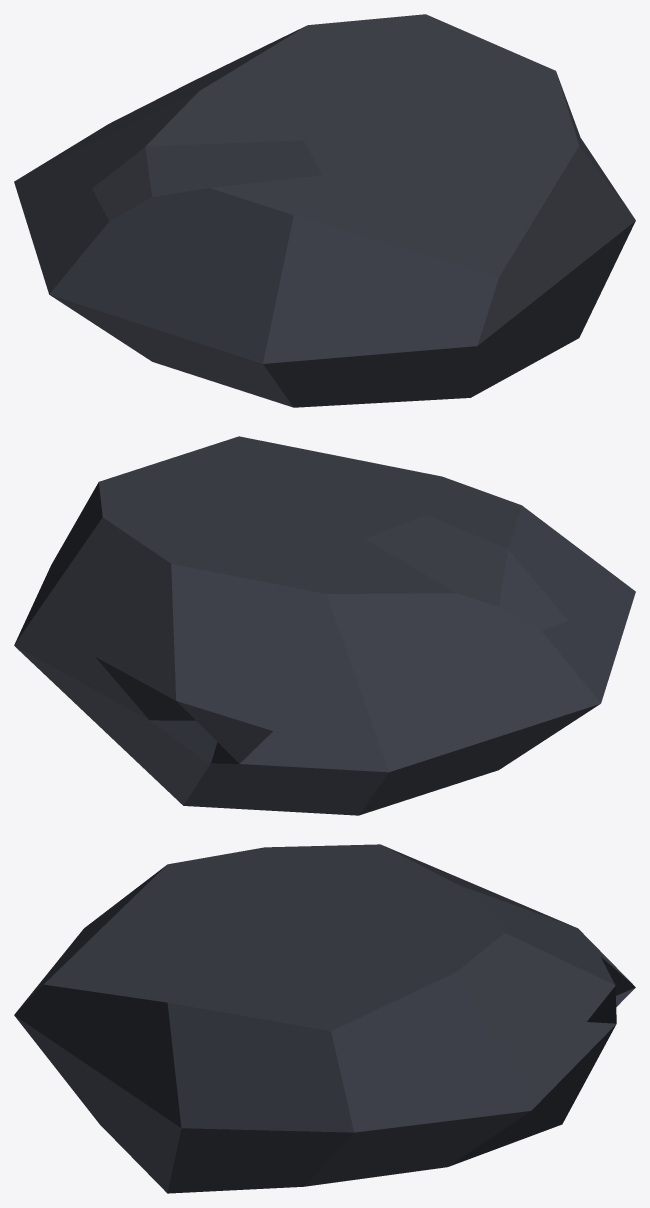
Rendered from pebble.fbx.
3 renders of one model, top to bottom at view 1: azimuth 30°, elevation 25°; view 2: azimuth 150°, elevation 25°; view 3: azimuth 270°, elevation 25°, orthographic.
Parts seen in each view (by area): view 1: Cylinder; view 2: Cylinder; view 3: Cylinder.
Part boxes in pixels (left/top/right/bottom): Cylinder: left=14, top=14, right=635, bottom=407; Cylinder: left=14, top=436, right=635, bottom=815; Cylinder: left=14, top=844, right=635, bottom=1193.
Size of the model in its own units: 2.69 by 1.04 by 2.69.
